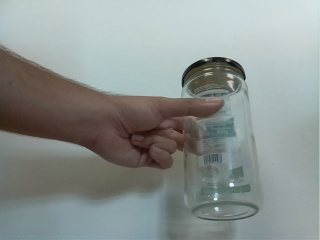pote cristal: (178, 55, 268, 224)
